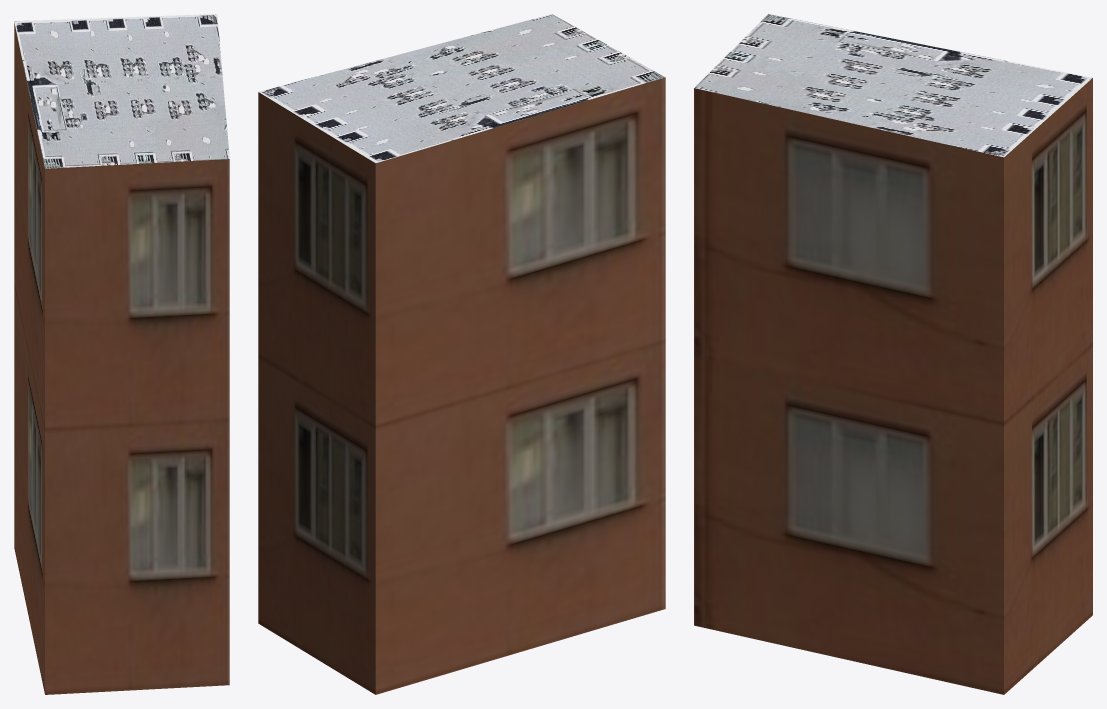
The model's file is ResTex__1010.fbx.
3 views of the same model, side by side, from view 1: azimuth 30°, elevation 25°; view 2: azimuth 150°, elevation 25°; view 3: azimuth 270°, elevation 25° (orthographic). The views are drawn at different scales.
Visible parts, largest first — view 1: CityEngineMaterial_20_m, CityEngineMaterial_8_m; view 2: CityEngineMaterial_20_m, CityEngineMaterial_8_m; view 3: CityEngineMaterial_20_m, CityEngineMaterial_8_m.
Part boxes in pixels (<box>): CityEngineMaterial_20_m: <box>14,23,229,694</box>; CityEngineMaterial_8_m: <box>14,14,229,168</box>; CityEngineMaterial_20_m: <box>258,77,665,694</box>; CityEngineMaterial_8_m: <box>259,14,665,163</box>; CityEngineMaterial_20_m: <box>694,78,1092,694</box>; CityEngineMaterial_8_m: <box>694,14,1092,157</box>.
Bounding box in the file's own units: 3.43 × 6 × 4.03.
2 materials, 2 textured.
